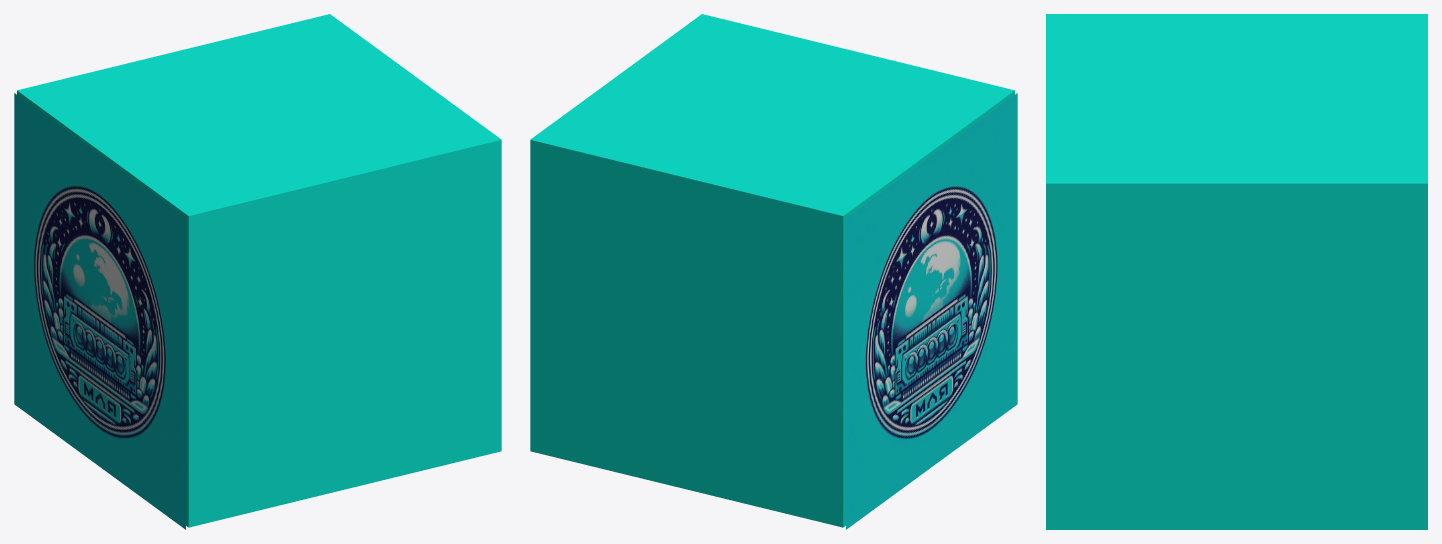
The model's file is rambox.fbx.
The picture shows the model from 3 angles, left to right: view 1: azimuth 30°, elevation 25°; view 2: azimuth 150°, elevation 25°; view 3: azimuth 270°, elevation 25°; orthographic projection. The views are drawn at different scales.
Parts seen in each view (by area): view 1: Plane; view 2: Plane; view 3: Plane.
Boxes of the visible parts, x1=… form: Plane: x1=14, y1=14, x2=501, y2=529; Plane: x1=530, y1=14, x2=1017, y2=529; Plane: x1=1046, y1=14, x2=1427, y2=529.
Size of the model in its own units: 212 by 201 by 200.
Materials: 2 (1 with a texture image).
